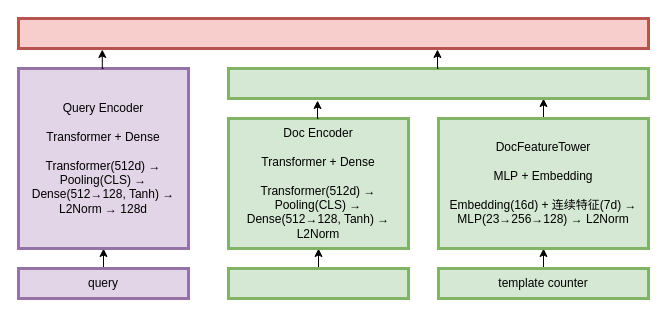
The diagram is 667 pixels wide and 317 high, and some of its shapes have lost their labels. The shapes that lost their labels are listed below. From the top down, each one's centre as x and y in pixels, then its label:
At point (333, 33): "Gate（Linear 256→1 + Sigmoid）".
At point (438, 83): "门控残差融合 → L2Norm → 128d".
At point (318, 283): "template title".
